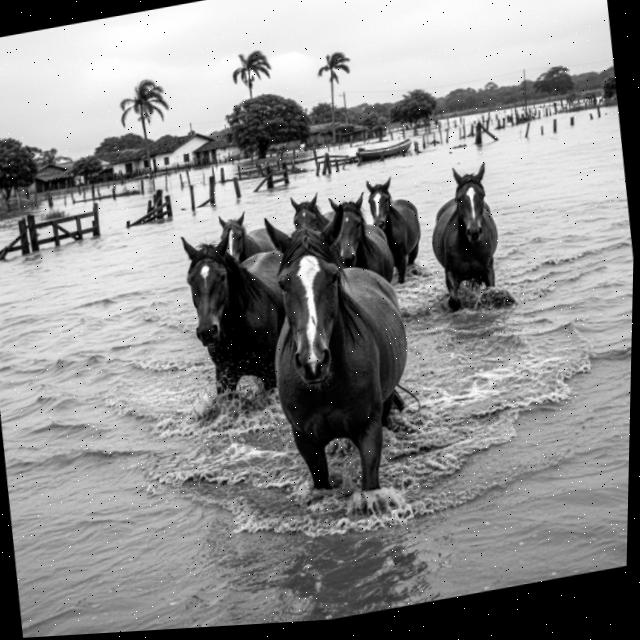horse: (233, 196, 430, 518), (171, 206, 314, 407), (416, 155, 519, 305), (358, 160, 438, 280), (316, 189, 403, 298), (203, 203, 281, 274), (281, 186, 338, 250)
